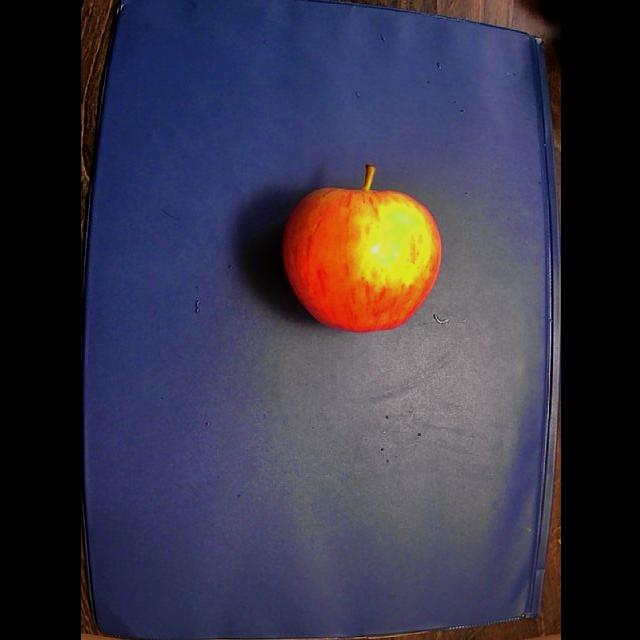manzana: (282, 166, 441, 332)
